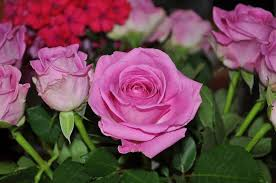rose: (0, 0, 203, 158), (213, 0, 275, 84)
